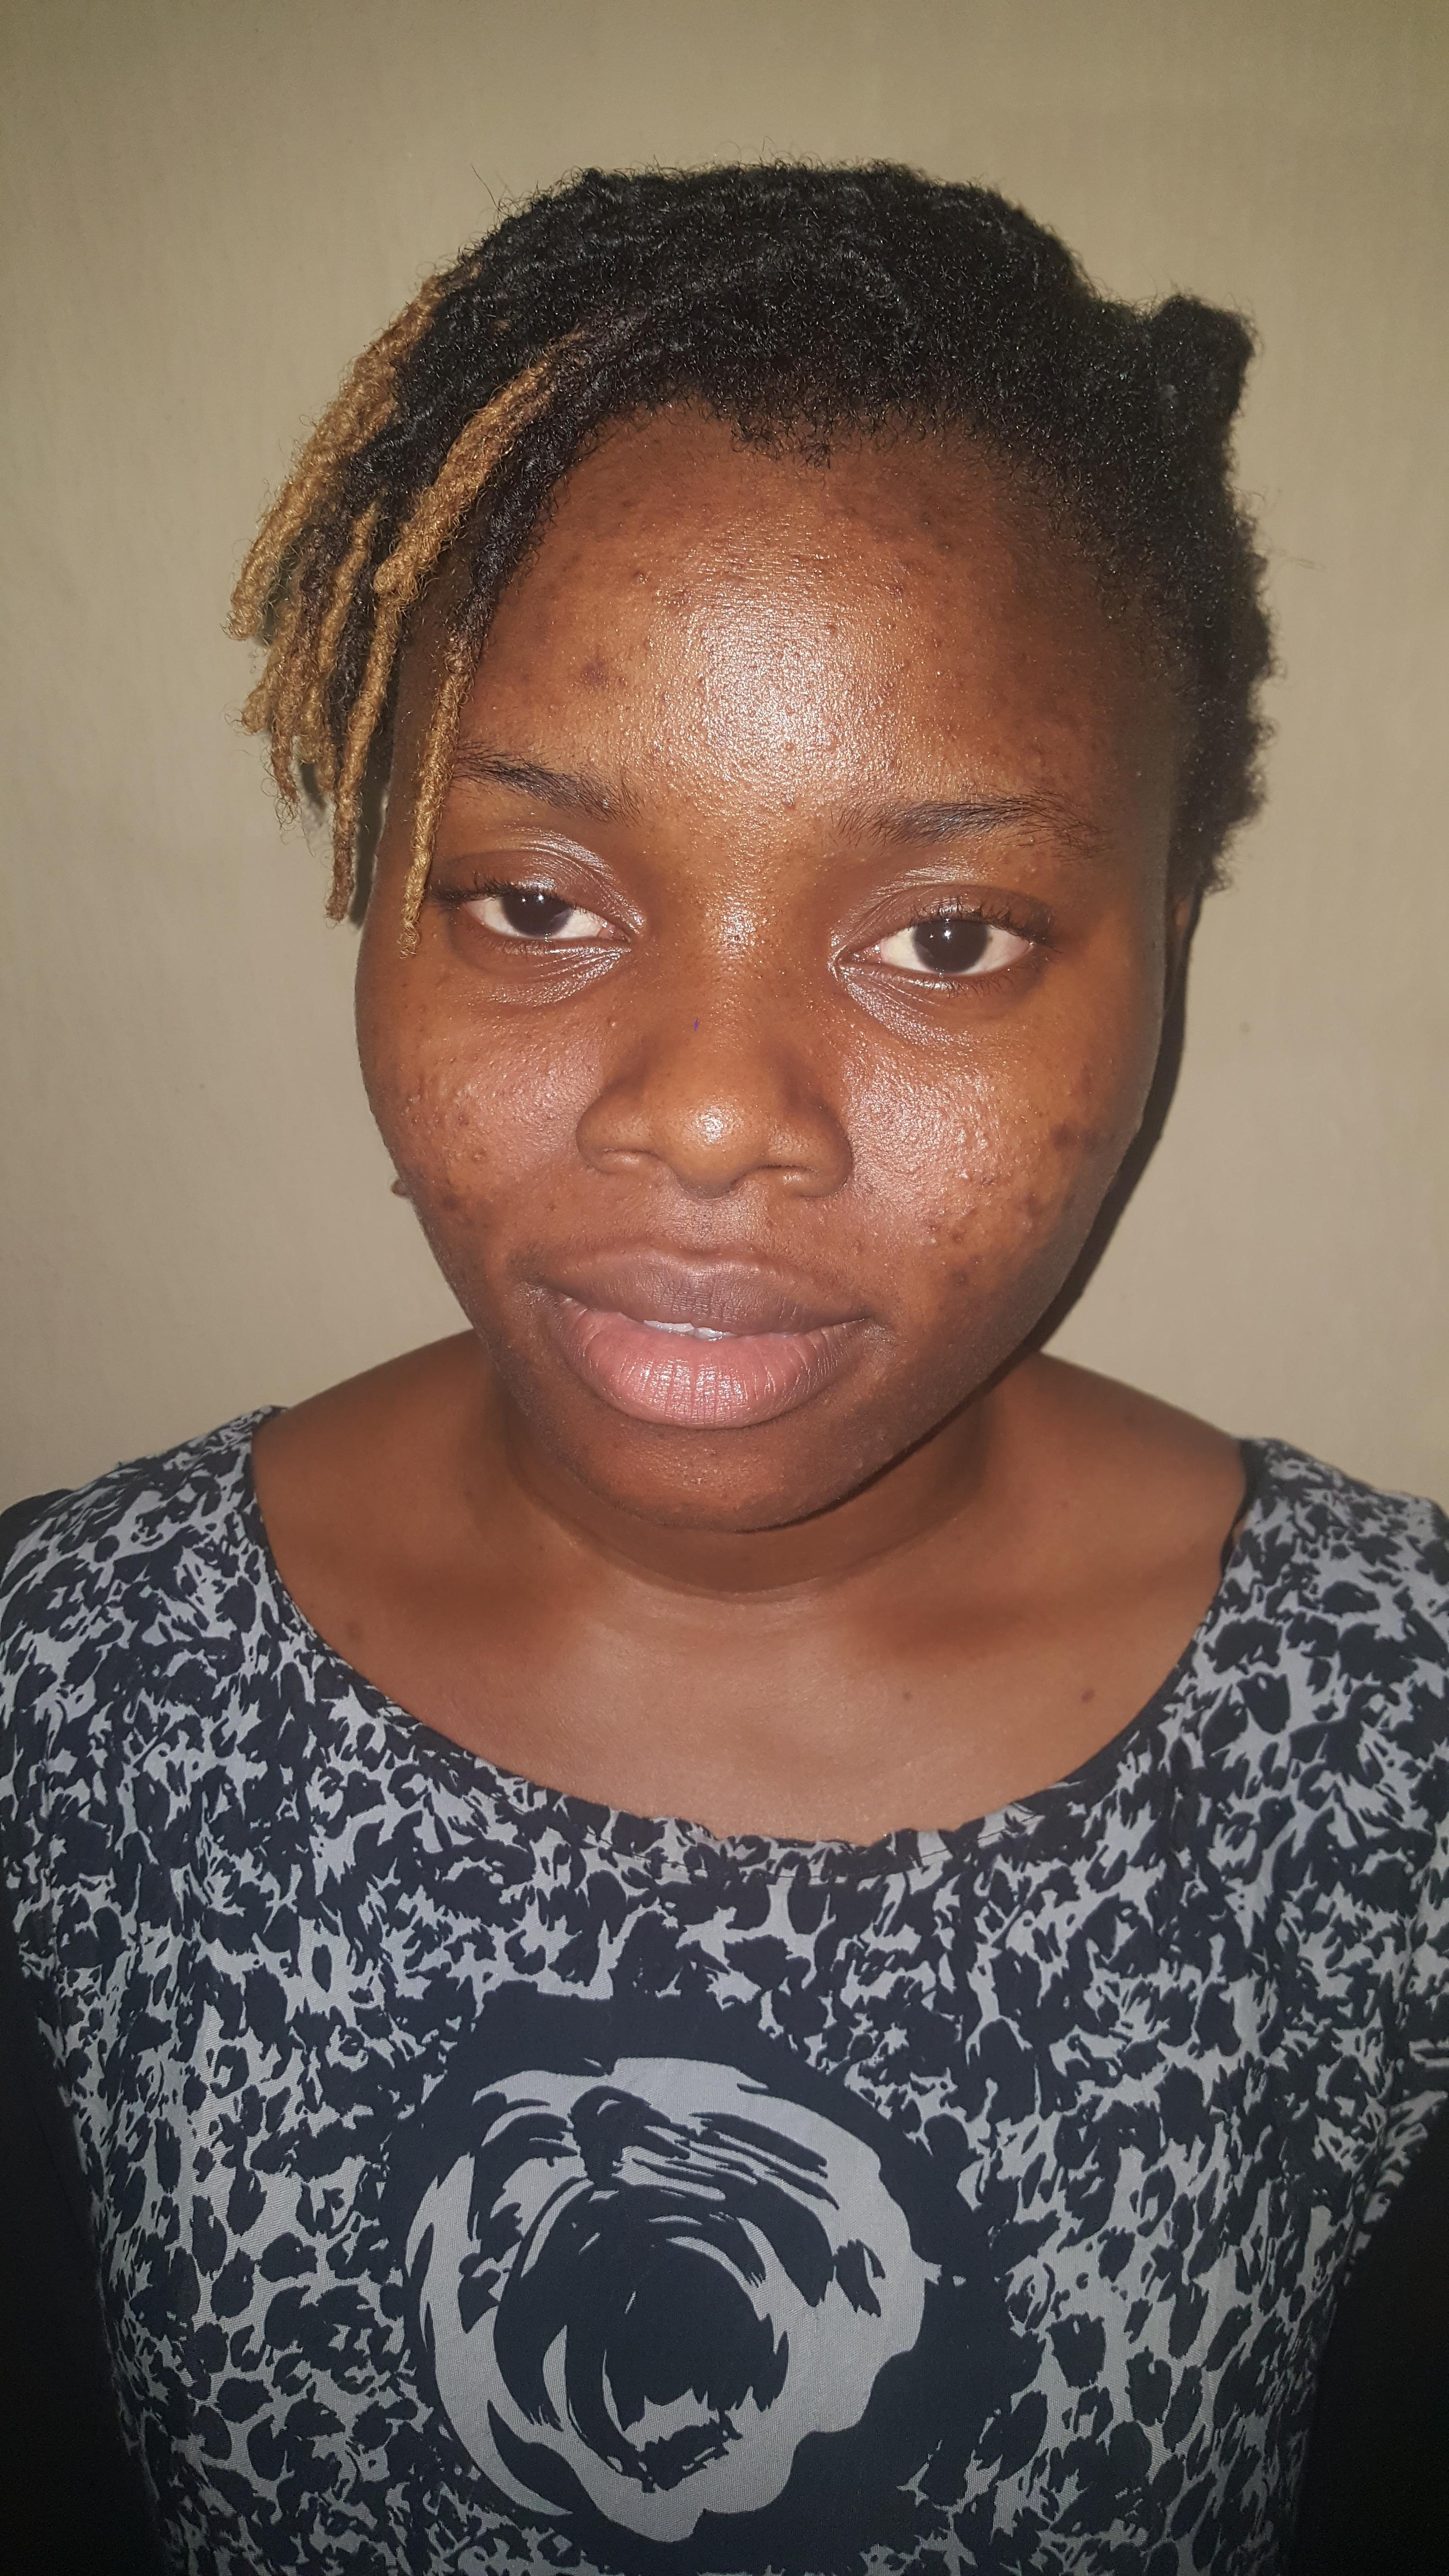Acne: (649, 570, 750, 610), (1039, 1113, 1125, 1155), (577, 648, 628, 695), (1067, 1049, 1104, 1104), (952, 1118, 998, 1159), (947, 1201, 980, 1253), (1016, 1184, 1042, 1240), (784, 543, 839, 570), (941, 1261, 980, 1297), (594, 517, 635, 548), (541, 573, 568, 619), (950, 1159, 977, 1200), (433, 1192, 469, 1221), (839, 1224, 869, 1254), (908, 510, 939, 538), (556, 547, 587, 575), (1021, 741, 1053, 770), (878, 580, 911, 607), (821, 722, 842, 763), (533, 1058, 563, 1086), (862, 1095, 888, 1127), (414, 994, 432, 1042), (817, 616, 844, 642), (870, 1421, 895, 1449), (398, 1090, 419, 1122), (449, 1077, 481, 1099), (775, 787, 801, 812), (541, 695, 568, 720), (835, 501, 863, 524), (932, 534, 957, 559), (538, 1108, 568, 1127), (782, 724, 798, 757), (616, 494, 640, 515), (639, 630, 658, 656), (453, 1109, 476, 1131), (694, 667, 713, 692), (626, 566, 649, 586), (925, 630, 947, 649), (883, 464, 906, 481), (591, 794, 616, 810), (876, 619, 901, 635), (754, 589, 778, 603), (766, 1208, 786, 1226), (598, 1016, 619, 1031), (895, 658, 911, 676), (472, 1146, 488, 1164), (663, 757, 679, 773)
Englarged-Pores: (842, 1049, 994, 1240), (476, 1046, 598, 1150)
